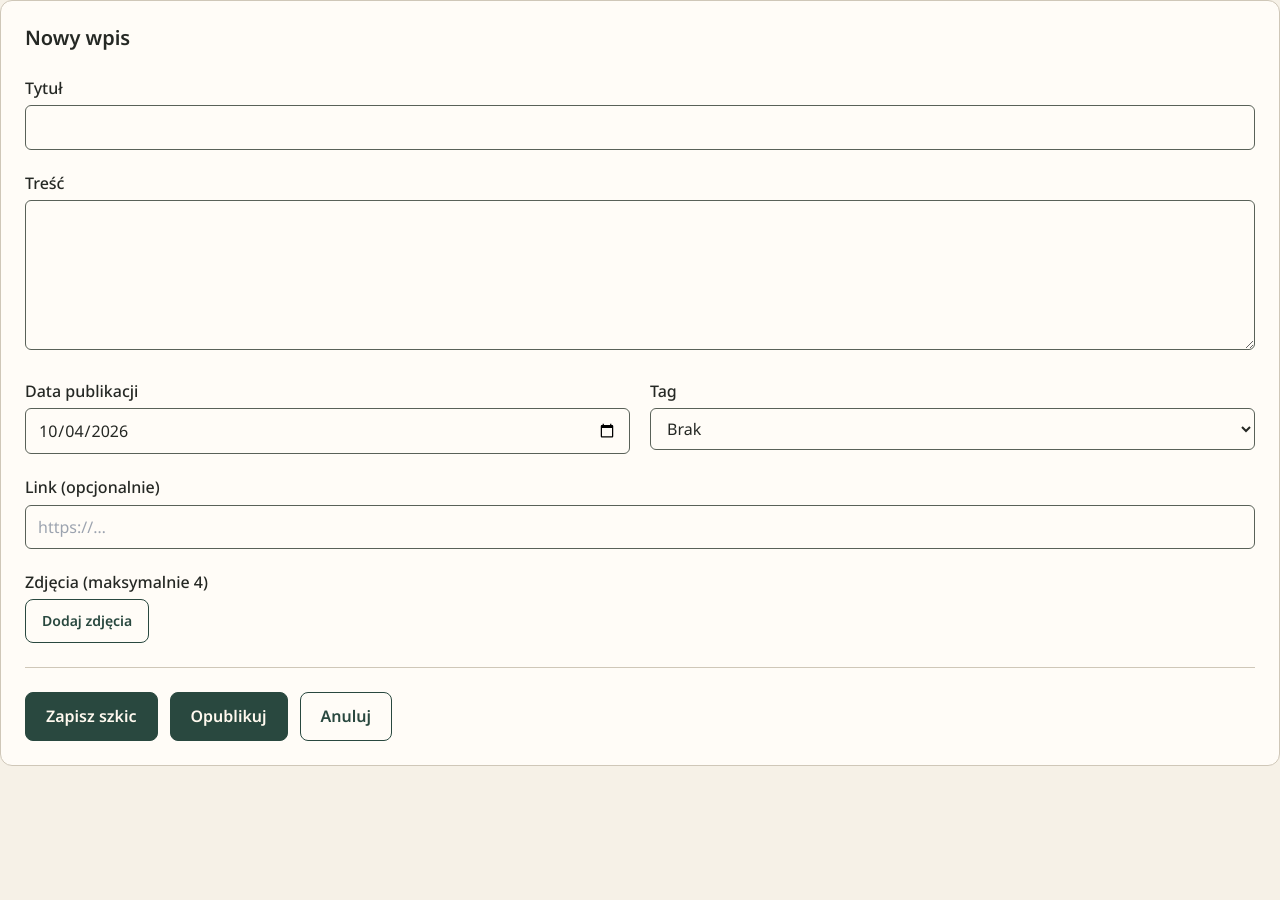
Scenario: PostForm › rejects an invalid optional link and does not save
Step 1. Type "Tytuł" into the field labelled "Tytuł" → (640, 128), box [25,105,1255,150]
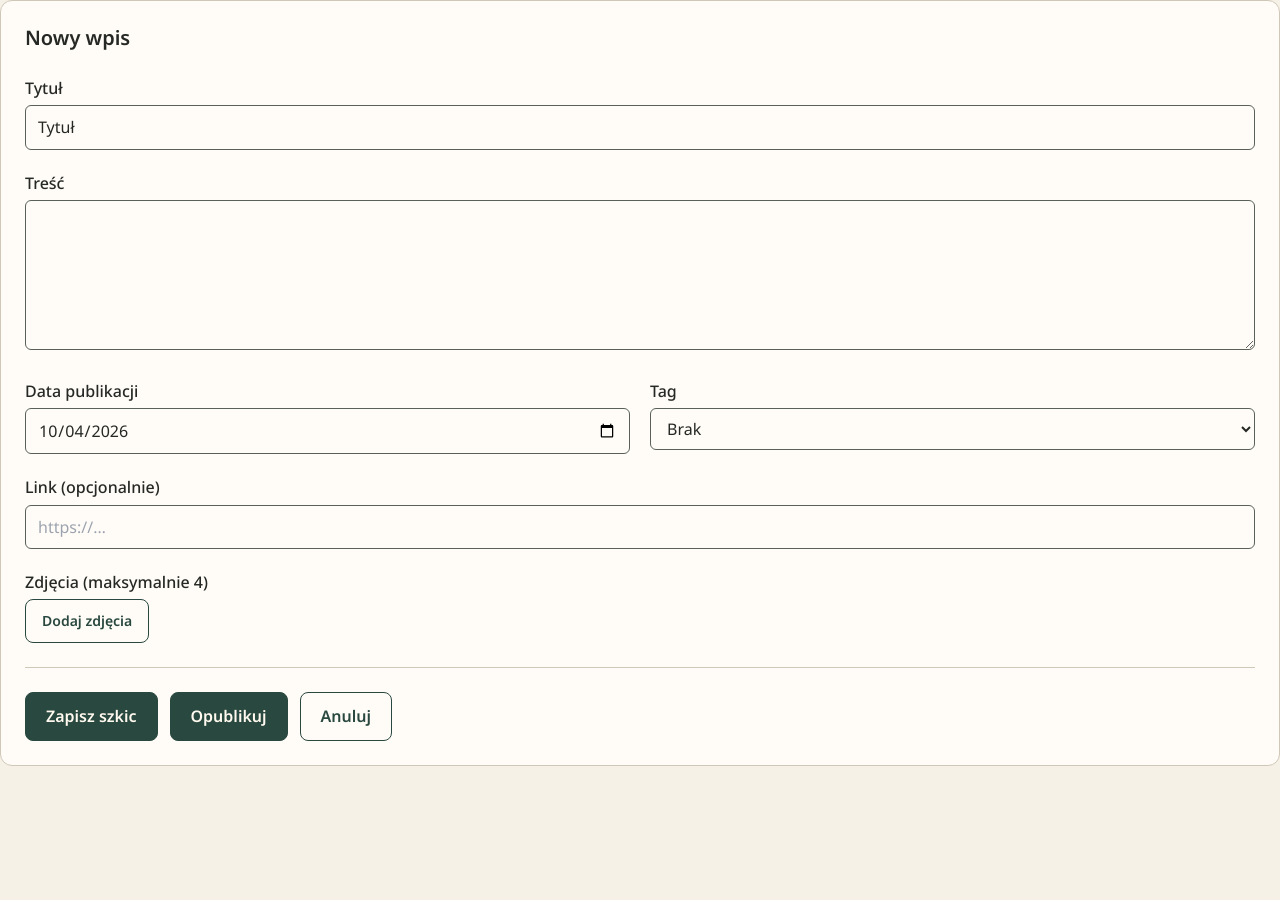
Step 2. Type "Treść" into the text box labelled "Treść" → (640, 275), box [25,200,1255,350]
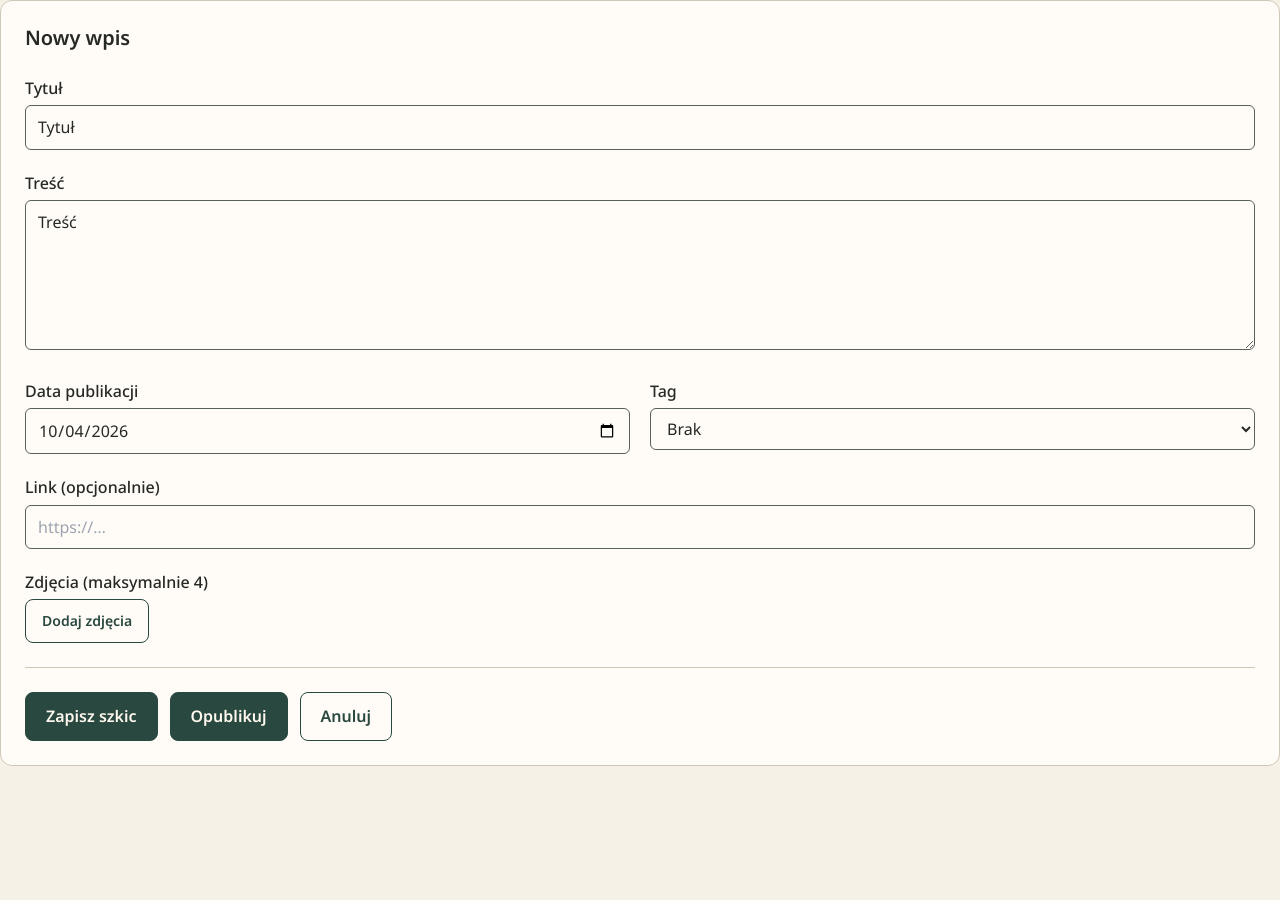
Step 3. Type "nie-jest-adresem" into the field labelled "Link (opcjonalnie)" → (640, 527), box [25,505,1255,549]
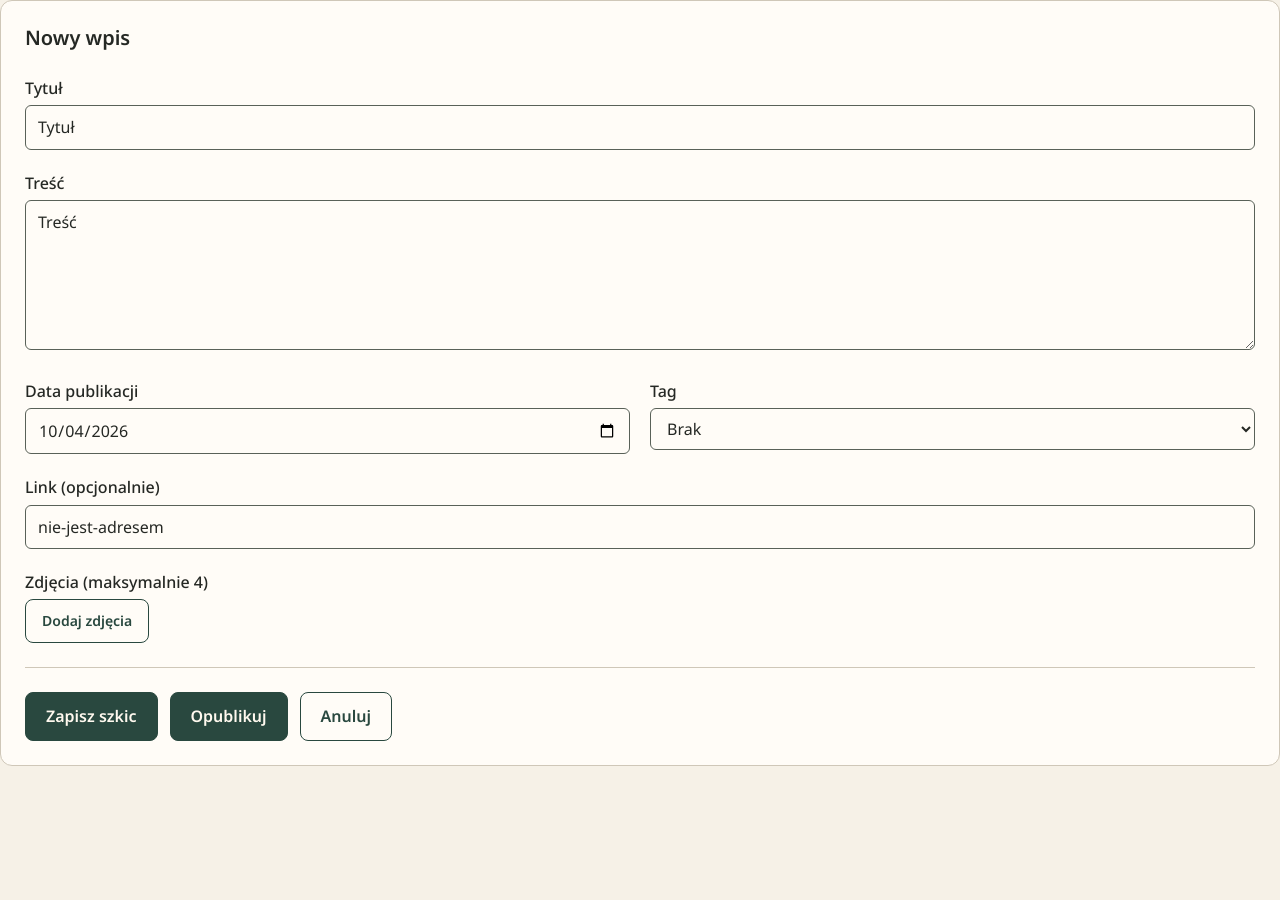
Step 4. Click the button "Opublikuj" → (228, 717), box [170,692,288,741]
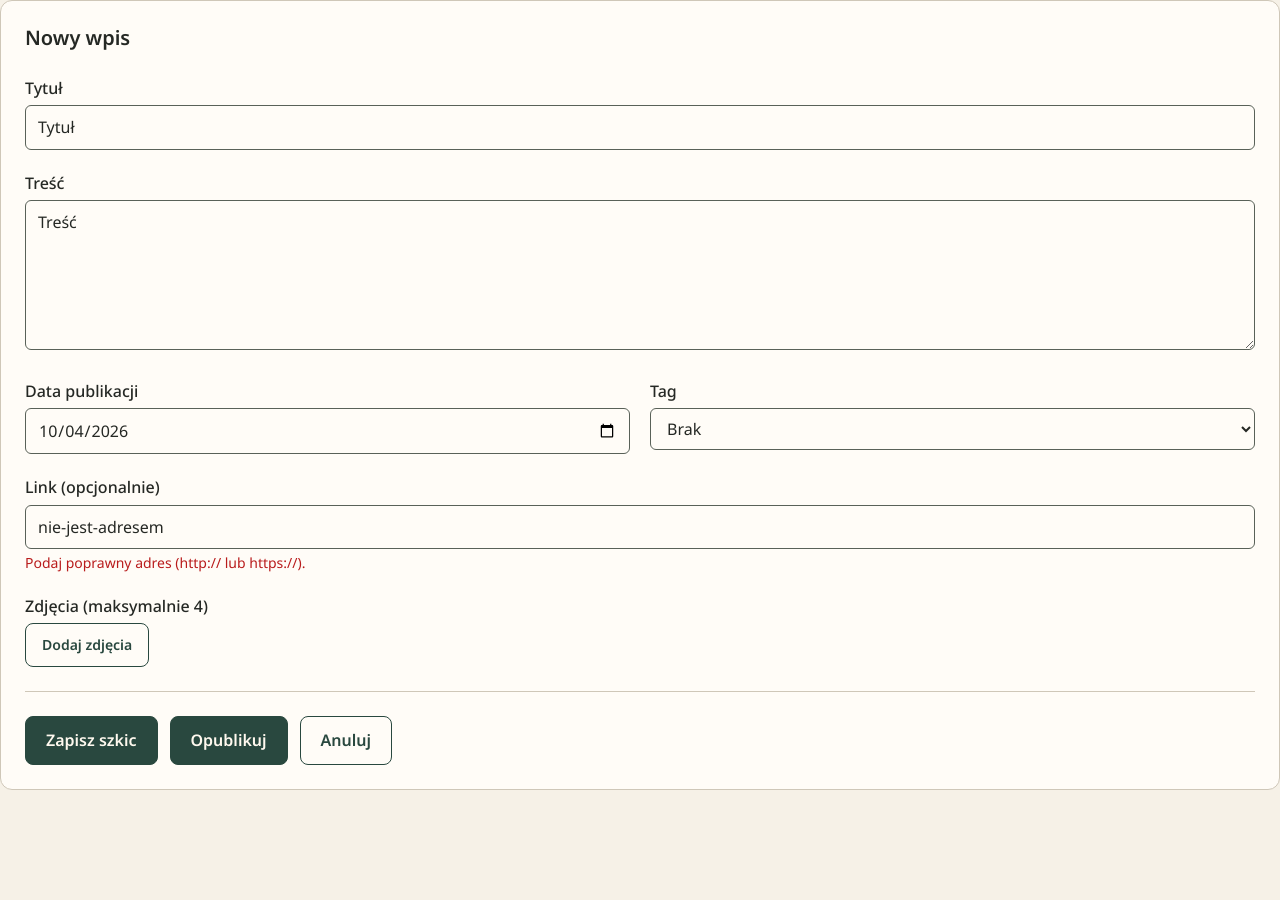
Now the text "Podaj poprawny adres (http:// lub https://)." is shown, box [25,553,305,572]
